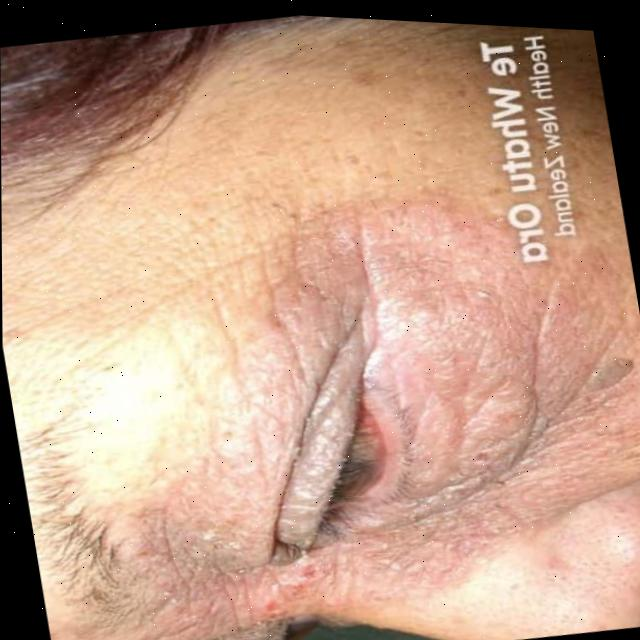Eczema: (100, 169, 640, 640)
